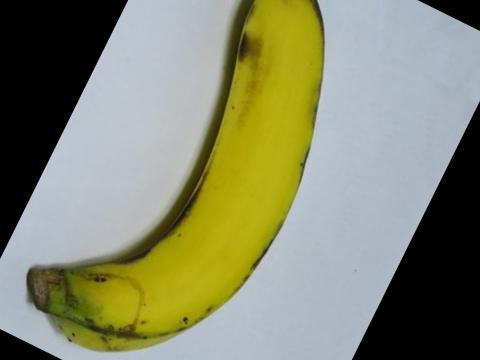freshripe: (11, 0, 332, 359)
